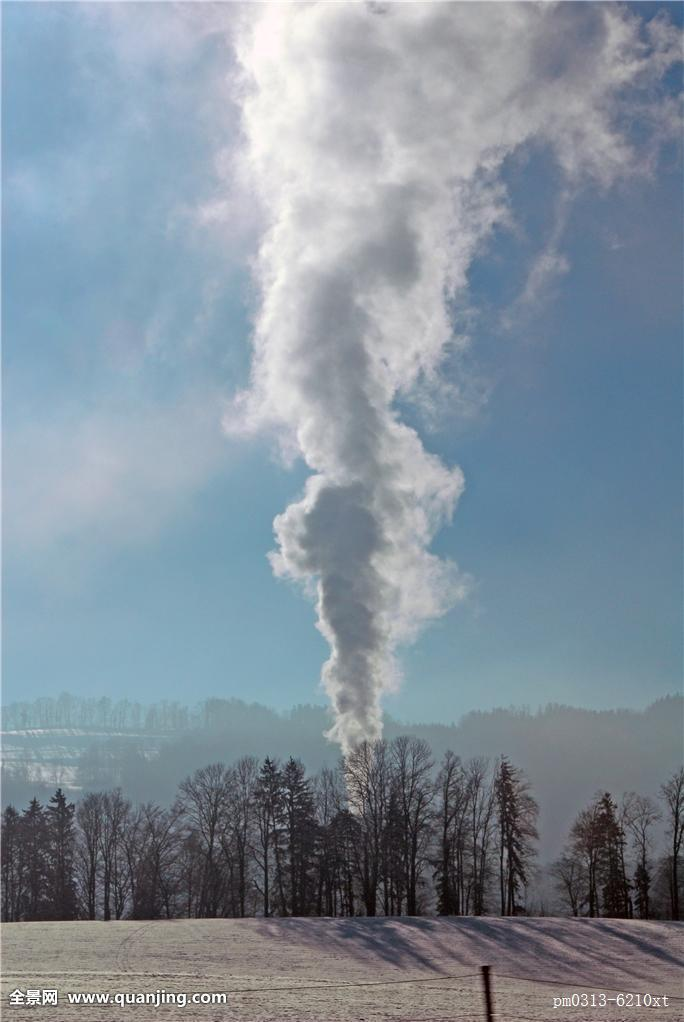dust: (218, 36, 491, 844)
